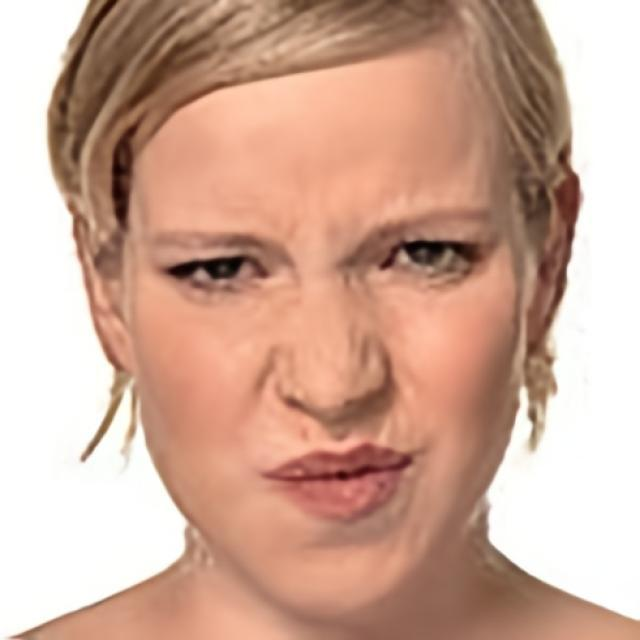disgust: (126, 26, 521, 626)
